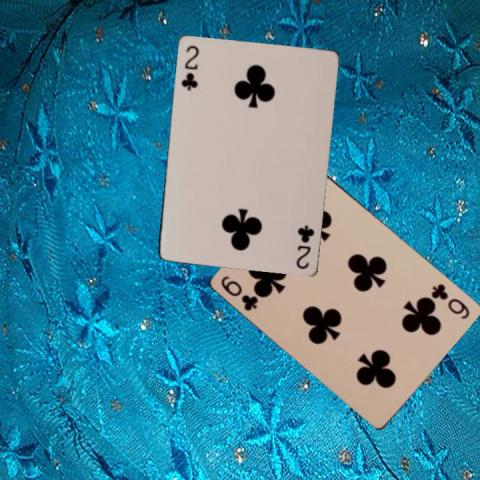2c: (178, 42, 200, 91), (293, 222, 315, 271)
6c: (218, 272, 260, 312), (429, 281, 471, 320)
